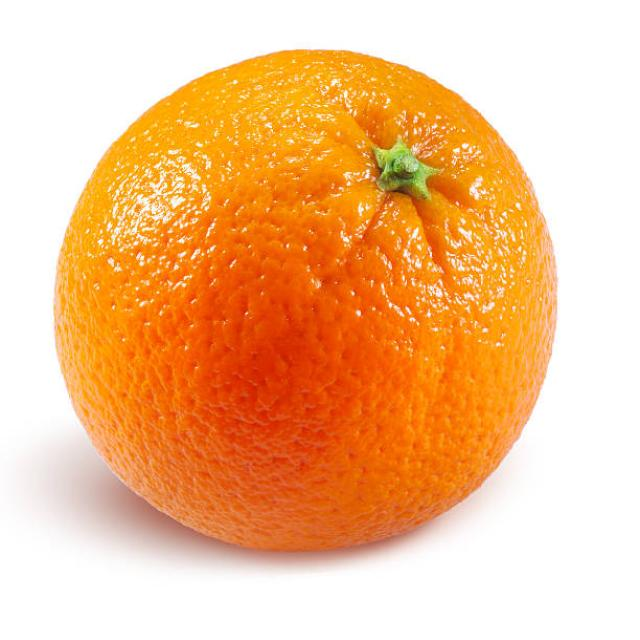Good_Orange: (51, 49, 559, 556)
